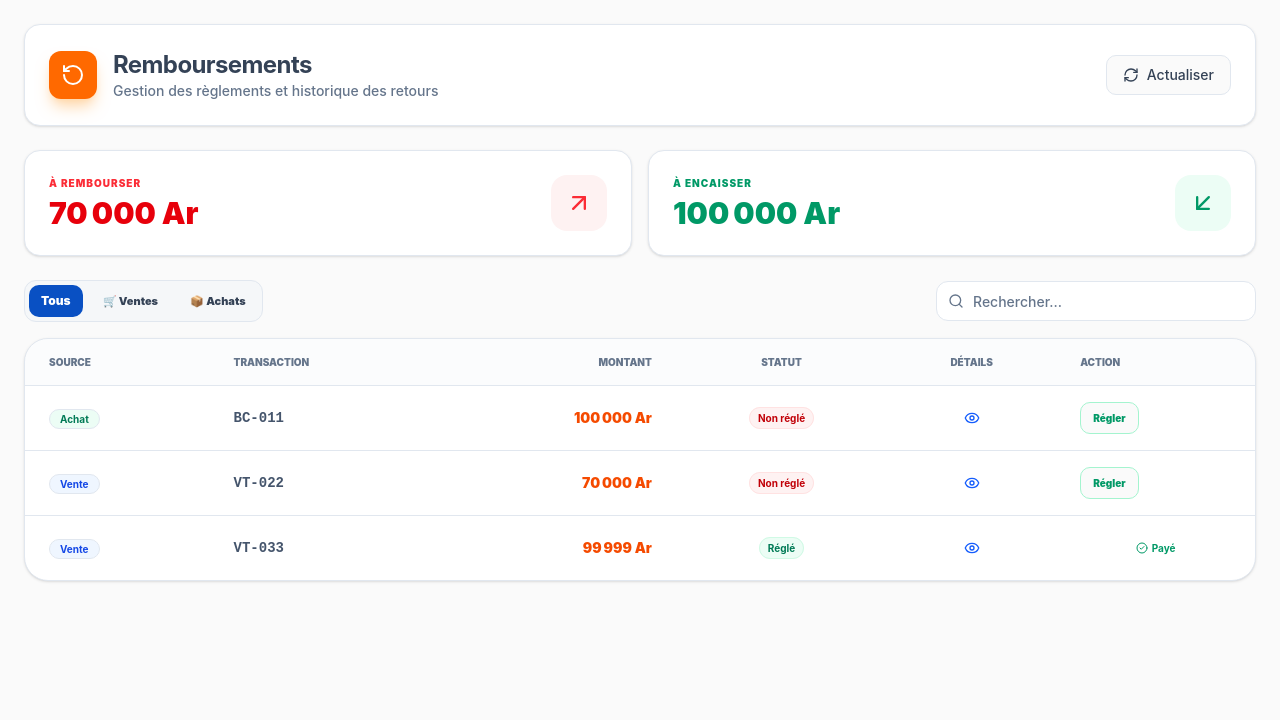
Scenario: Mission 3 — Remboursements : détail de la transaction source (chargement différé) › origine VENTE : recharge la vente source (nom de produit issu de « produit_name »)
Expected: the text "VT-022" is shown, [210,451,441,516]
Click the button without text in the row of "VT-022".
click(972, 483)  # box [956,467,988,499]
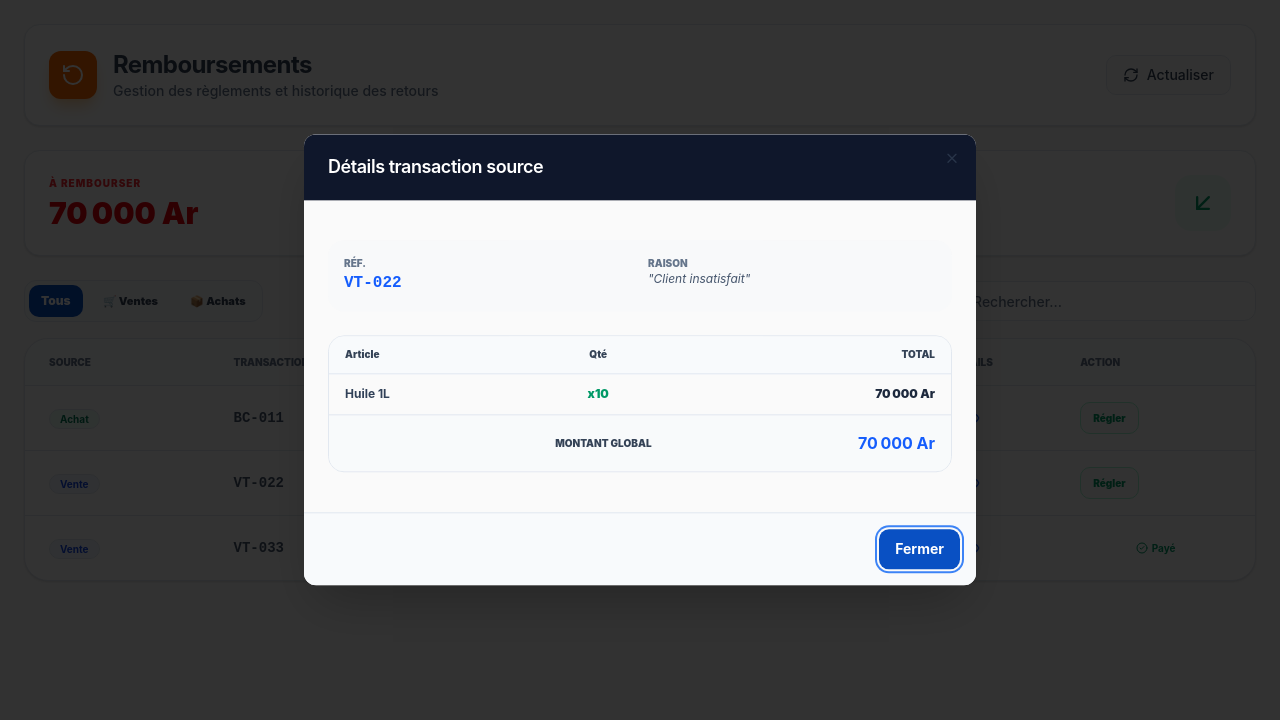
Result: the text "Huile 1L" is shown at [329,374,529,415]
Result: the text "VT-022" is shown at [344,274,402,292]
Result: the text "\"Client insatisfait\"" is shown at [648,271,750,286]
